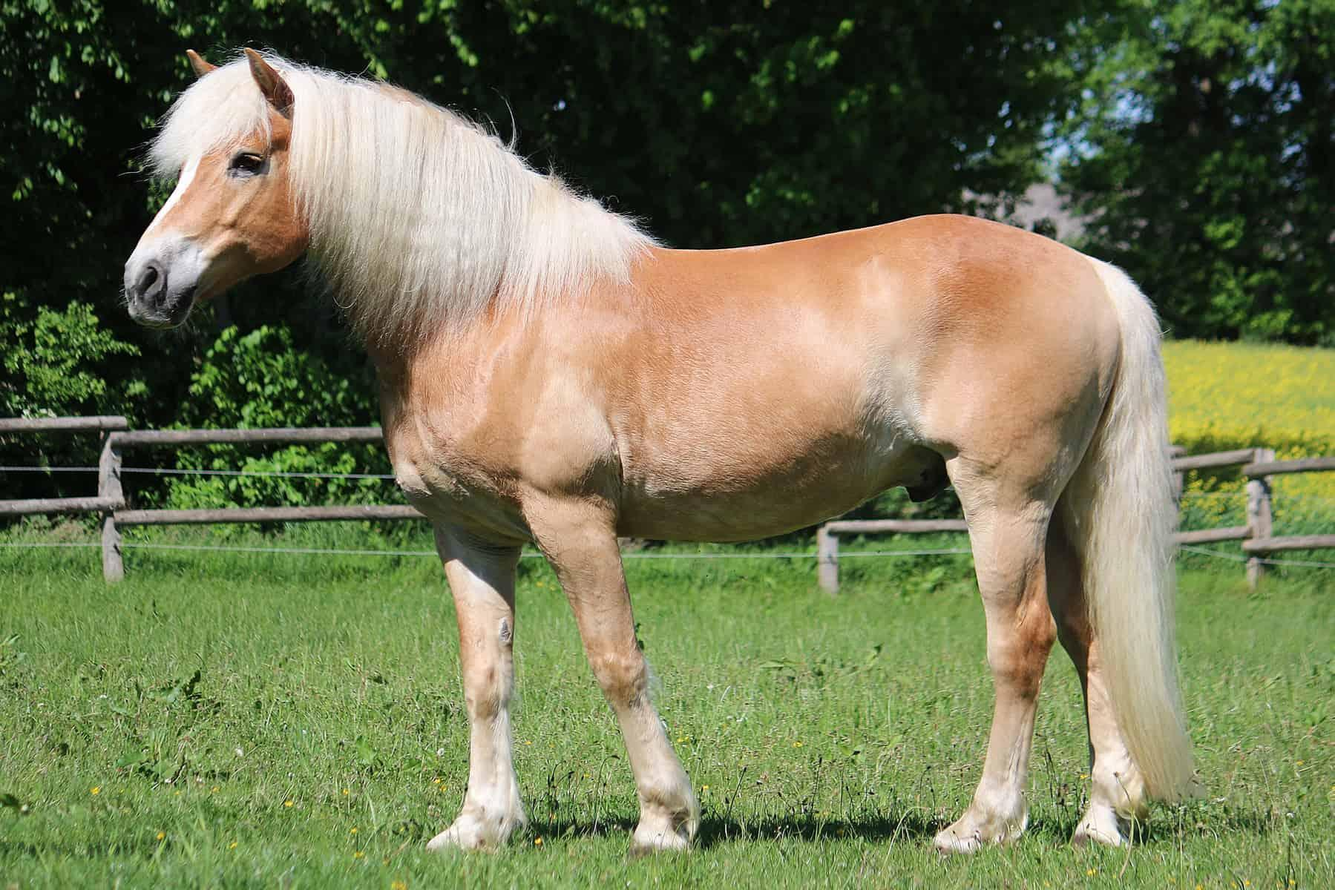horse: (111, 34, 1206, 863)
